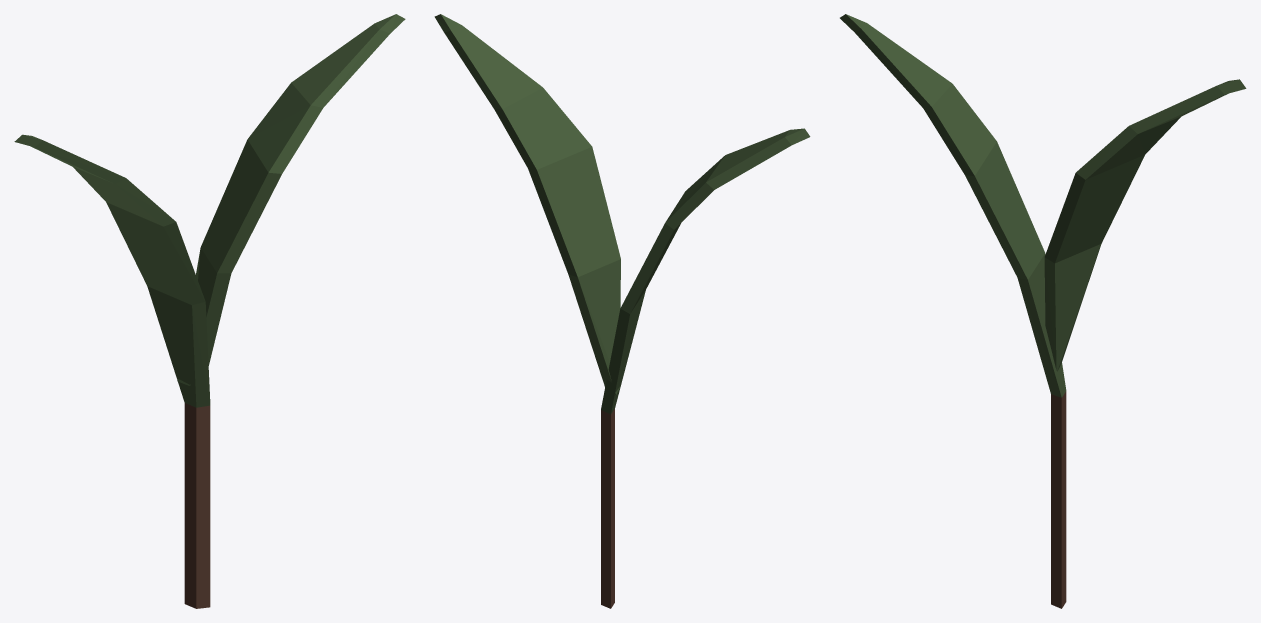
File: crop_strawberry.s1.glb
The picture shows the model from 3 angles, left to right: view 1: azimuth 30°, elevation 25°; view 2: azimuth 150°, elevation 25°; view 3: azimuth 330°, elevation 25°; orthographic projection. The views are drawn at different scales.
Bounding box in the file's own units: 0.151 × 0.2053 × 0.0292.
